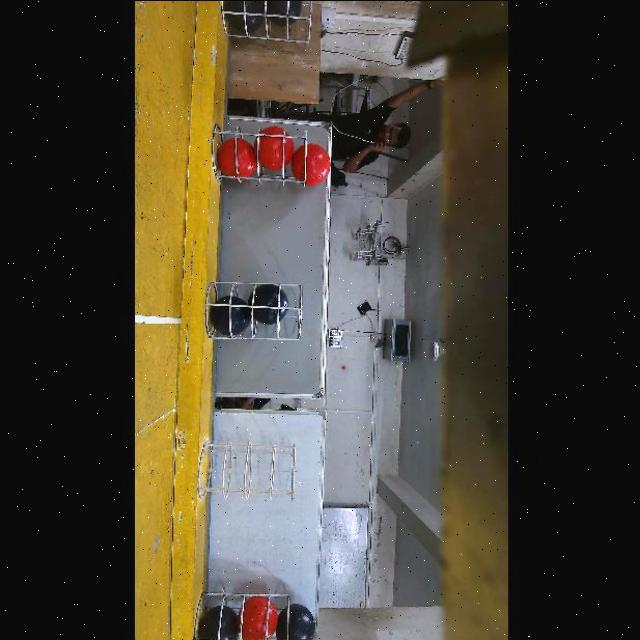P: (250, 284, 290, 325), (212, 294, 251, 334), (275, 605, 316, 640), (199, 605, 239, 640), (226, 0, 265, 33), (263, 0, 302, 25)
R: (238, 597, 278, 640), (292, 143, 330, 185), (217, 138, 256, 178), (257, 127, 294, 169)
S: (195, 434, 302, 500), (202, 278, 306, 340), (212, 128, 308, 182), (195, 592, 292, 640), (238, 1, 316, 44)
